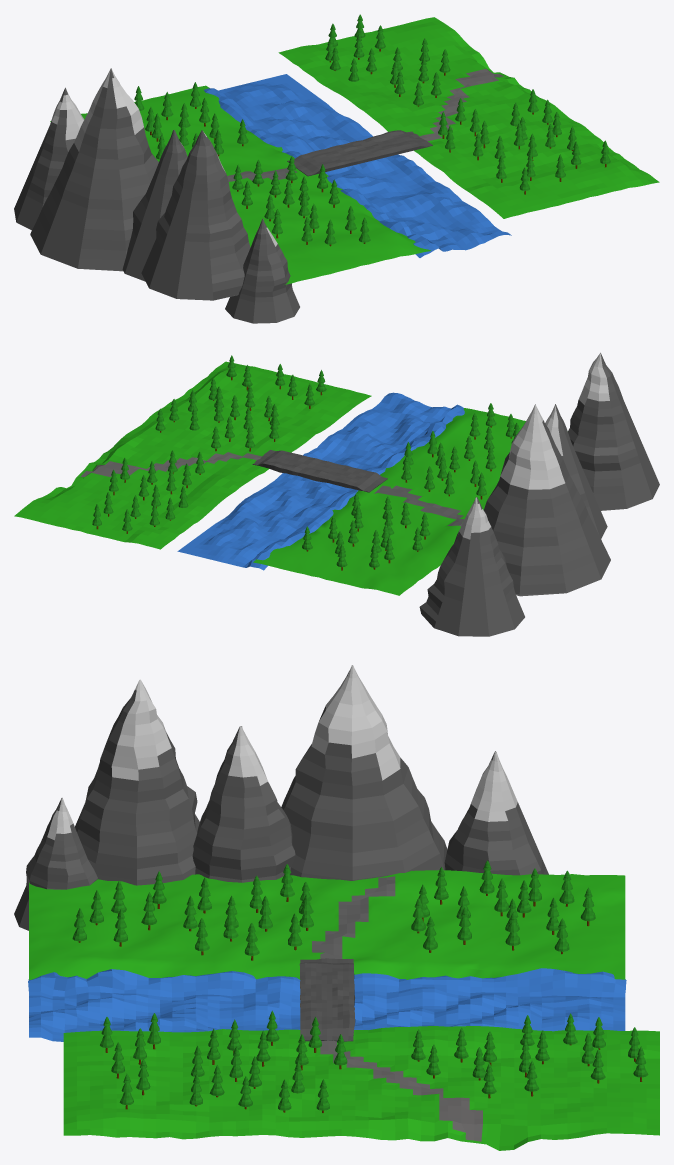
3 views of the same model, one above another, from view 1: azimuth 30°, elevation 25°; view 2: azimuth 150°, elevation 25°; view 3: azimuth 270°, elevation 25° (orthographic). The views are drawn at different scales.
Parts seen in each view (by area): view 1: Plane_2_Mat_0, Plane_1_Mat1_0, Plane_Mat_0, Cone_2_Mat6_0, Cone_Mat6_0, Cone_3_Mat6_0, Cone_1_Mat6_0, Cone_4_Mat6_0, Cube_Mat7_0, Plane_2_Mat4_0, Cone_2_Mat5_0, Cone_4_Mat5_0; view 2: Plane_2_Mat_0, Plane_Mat_0, Plane_1_Mat1_0, Cone_2_Mat6_0, Cone_4_Mat6_0, Cone_Mat6_0, Cone_2_Mat5_0, Cube_Mat7_0, Cone_1_Mat6_0, Plane_2_Mat4_0, Plane_Mat6_0, Cone_Mat5_0 (+1 smaller); view 3: Plane_2_Mat_0, Plane_Mat_0, Plane_1_Mat1_0, Cone_2_Mat6_0, Cone_Mat6_0, Cone_1_Mat6_0, Cone_4_Mat6_0, Cone_2_Mat5_0, Cube_Mat7_0, Cone_3_Mat6_0, Cone_Mat5_0, Plane_2_Mat4_0 (+3 smaller).
Boxes of the visible parts, <box> form: Plane_2_Mat_0: <box>278,17,659,218</box>; Plane_1_Mat1_0: <box>204,74,511,257</box>; Plane_Mat_0: <box>50,85,430,284</box>; Cone_2_Mat6_0: <box>30,68,158,271</box>; Cone_Mat6_0: <box>141,130,250,300</box>; Cone_3_Mat6_0: <box>225,218,299,323</box>; Cone_1_Mat6_0: <box>122,130,187,281</box>; Cone_4_Mat6_0: <box>14,88,75,230</box>; Cube_Mat7_0: <box>287,130,432,176</box>; Plane_2_Mat4_0: <box>419,68,503,141</box>; Cone_2_Mat5_0: <box>74,68,143,151</box>; Cone_4_Mat5_0: <box>51,88,84,140</box>; Plane_2_Mat_0: <box>14,361,371,549</box>; Plane_Mat_0: <box>253,408,525,595</box>; Plane_1_Mat1_0: <box>177,392,464,570</box>; Cone_2_Mat6_0: <box>483,420,610,596</box>; Cone_4_Mat6_0: <box>419,497,524,636</box>; Cone_Mat6_0: <box>568,353,659,510</box>; Cone_2_Mat5_0: <box>500,404,565,489</box>; Cube_Mat7_0: <box>252,450,387,492</box>; Cone_1_Mat6_0: <box>555,404,607,538</box>; Plane_2_Mat4_0: <box>81,452,261,476</box>; Plane_Mat6_0: <box>374,485,464,526</box>; Cone_Mat5_0: <box>578,353,609,404</box>; Plane_2_Mat_0: <box>63,1026,659,1150</box>; Plane_Mat_0: <box>29,870,625,979</box>; Plane_1_Mat1_0: <box>28,968,626,1041</box>; Cone_2_Mat6_0: <box>281,671,447,880</box>; Cone_Mat6_0: <box>75,690,199,885</box>; Cone_1_Mat6_0: <box>192,727,295,882</box>; Cone_4_Mat6_0: <box>444,751,548,875</box>; Cone_2_Mat5_0: <box>311,665,400,780</box>; Cube_Mat7_0: <box>299,958,355,1041</box>; Cone_3_Mat6_0: <box>14,798,97,930</box>; Cone_Mat5_0: <box>111,679,171,780</box>; Plane_2_Mat4_0: <box>320,1041,482,1141</box>.
Size of the model in its own units: 13.06 by 4.62 by 10.83.
